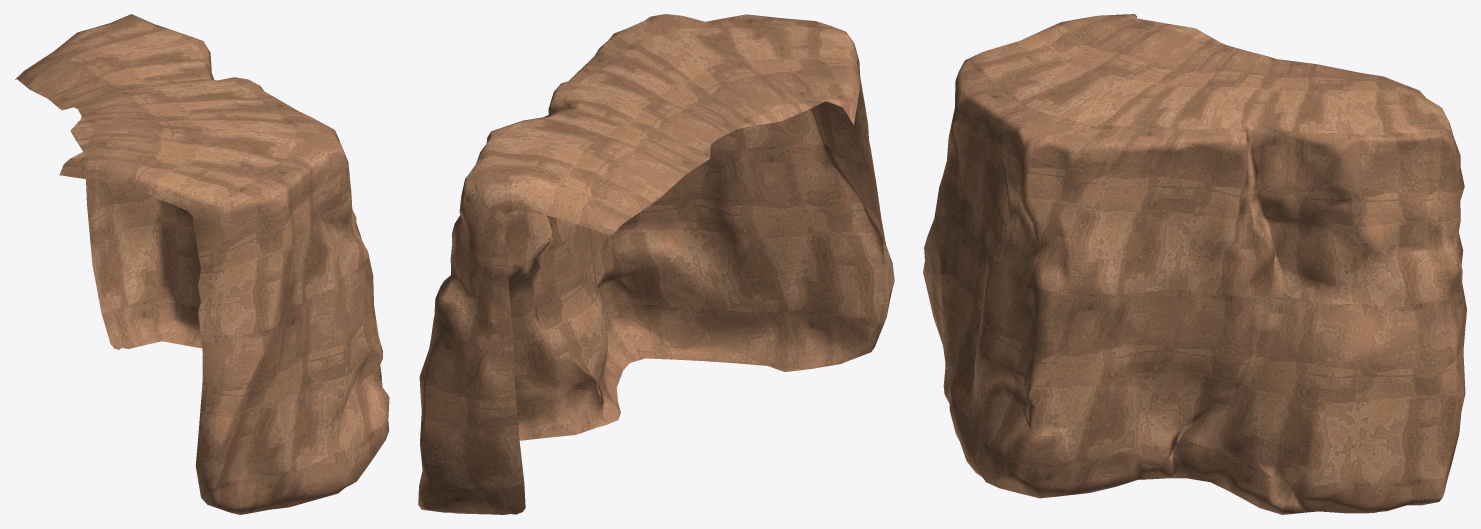
File: Ob_RockCliff26.fbx
3 renders of one model, left to right at view 1: azimuth 30°, elevation 25°; view 2: azimuth 150°, elevation 25°; view 3: azimuth 270°, elevation 25°, orthographic. The views are drawn at different scales.
Parts seen in each view (by area): view 1: Ob_RockCliff26; view 2: Ob_RockCliff26; view 3: Ob_RockCliff26.
Part boxes in pixels (left/top/right/bottom): Ob_RockCliff26: left=15, top=14, right=389, bottom=514; Ob_RockCliff26: left=418, top=14, right=894, bottom=514; Ob_RockCliff26: left=923, top=14, right=1466, bottom=514.
Bounding box in the file's own units: 20425 × 22969 × 30464.
